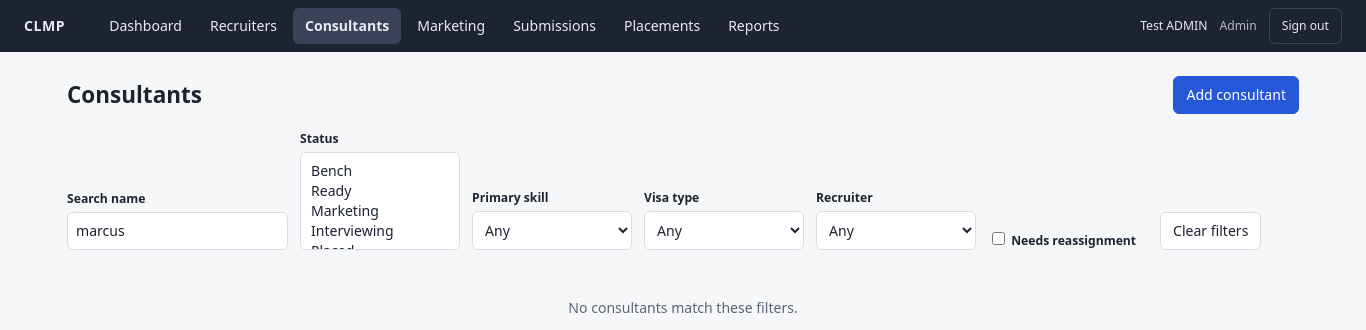
Scenario: Consultants name search › shows the search from the URL and empties it on Clear filters
Expected: the search field labelled "Search name" holds "marcus", [67,212,288,250]
Click the button "Clear filters" at x=1211, y=231, box [1160,212,1261,250]
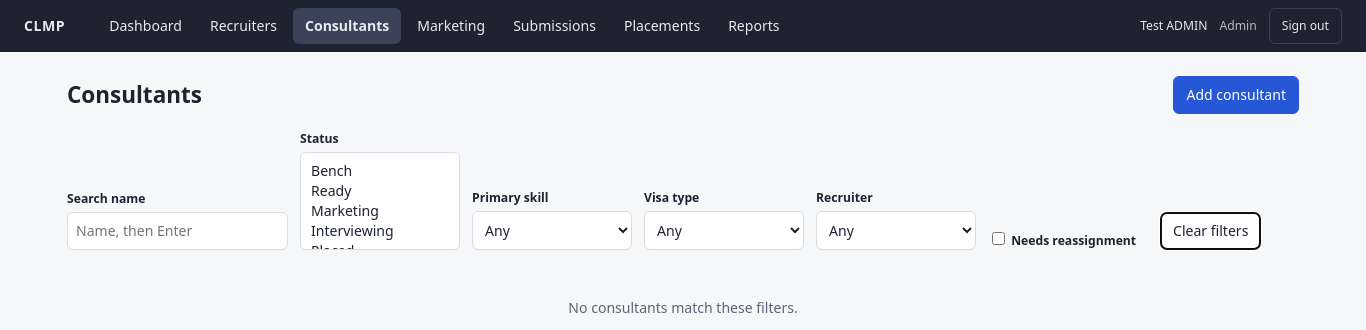
Now the search field labelled "Search name" is empty, box [67,212,288,250]
